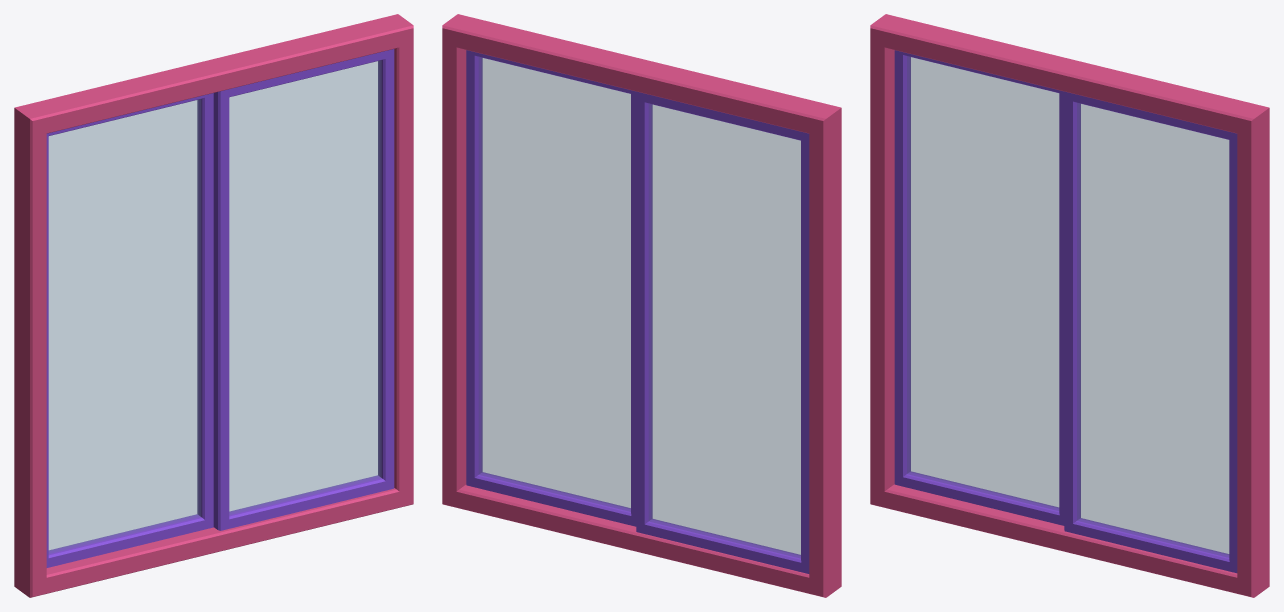
Rendered from window.obj.
3 views of the same model, side by side, from view 1: azimuth 30°, elevation 25°; view 2: azimuth 150°, elevation 25°; view 3: azimuth 330°, elevation 25° (orthographic).
Visible parts, largest first — view 1: Rectangle4081, Rectangle4082, Rectangle4079, Rectangle4083, Rectangle4080; view 2: Rectangle4081, Rectangle4082, Rectangle4079, Rectangle4080, Rectangle4083; view 3: Rectangle4081, Rectangle4082, Rectangle4079, Rectangle4083, Rectangle4080.
Boxes of the visible parts, bbox=[...] form: Rectangle4081: bbox=[229, 61, 381, 514]; Rectangle4082: bbox=[49, 99, 200, 553]; Rectangle4079: bbox=[14, 14, 413, 597]; Rectangle4083: bbox=[213, 49, 394, 530]; Rectangle4080: bbox=[46, 93, 213, 567]; Rectangle4081: bbox=[479, 57, 630, 511]; Rectangle4082: bbox=[649, 104, 800, 557]; Rectangle4079: bbox=[442, 14, 841, 597]; Rectangle4080: bbox=[636, 91, 809, 573]; Rectangle4083: bbox=[466, 50, 636, 526]; Rectangle4081: bbox=[1077, 103, 1228, 557]; Rectangle4082: bbox=[907, 56, 1058, 510]; Rectangle4079: bbox=[870, 14, 1269, 597]; Rectangle4083: bbox=[1064, 91, 1237, 573]; Rectangle4080: bbox=[894, 50, 1064, 525].
Size of the model in its own units: 1250 by 1491 by 102.
